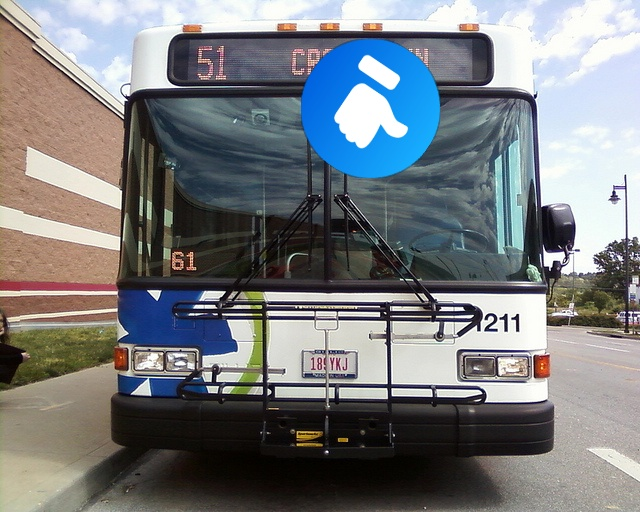like: (301, 39, 440, 178)
